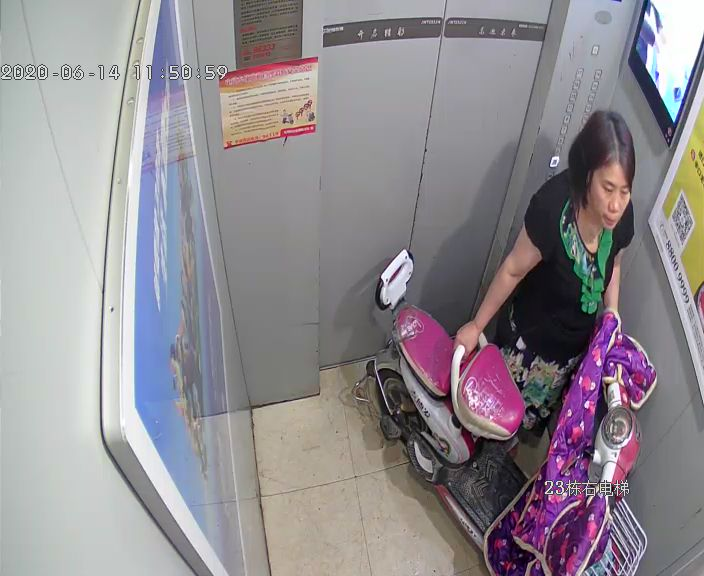Electric-bicycle: (361, 249, 644, 574)
